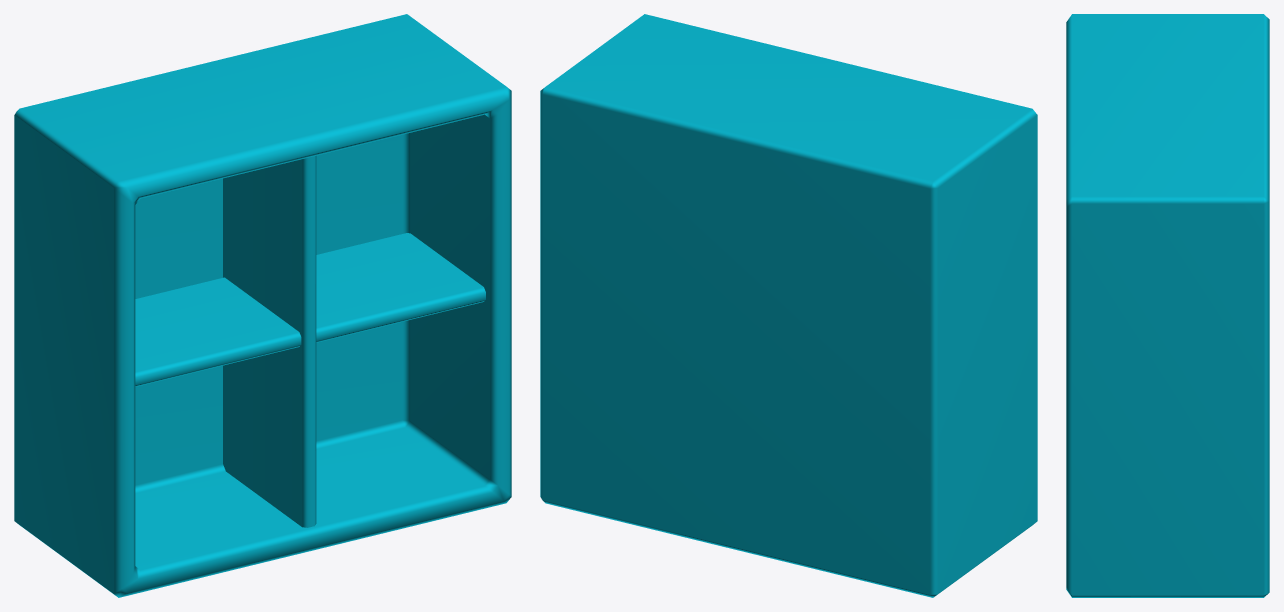
File: dresser_029.fbx
3 views of the same model, side by side, from view 1: azimuth 30°, elevation 25°; view 2: azimuth 150°, elevation 25°; view 3: azimuth 270°, elevation 25° (orthographic). The views are drawn at different scales.
Visible parts, largest first — view 1: dresser_029; view 2: dresser_029; view 3: dresser_029.
Boxes of the visible parts, box(x1,y1,x2,y2) form: dresser_029: box(14, 14, 511, 597); dresser_029: box(540, 14, 1037, 597); dresser_029: box(1066, 14, 1269, 597).
Size of the model in its own units: 122 by 55.94 by 122.
